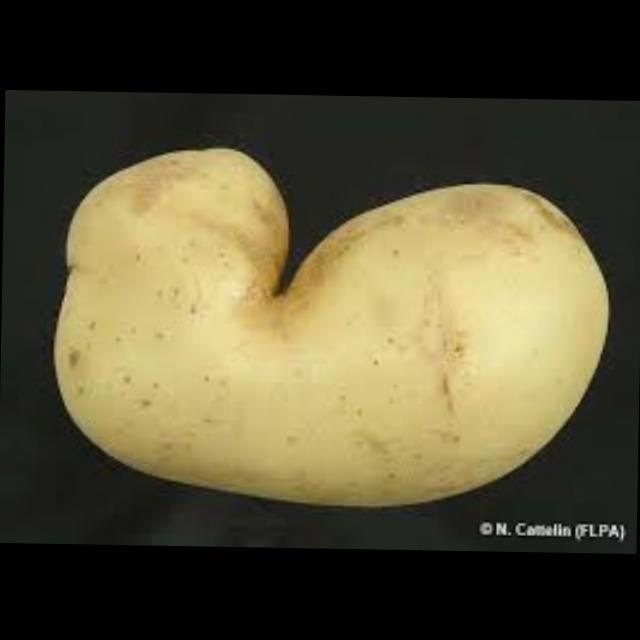Damaged potato: (54, 128, 618, 510)
